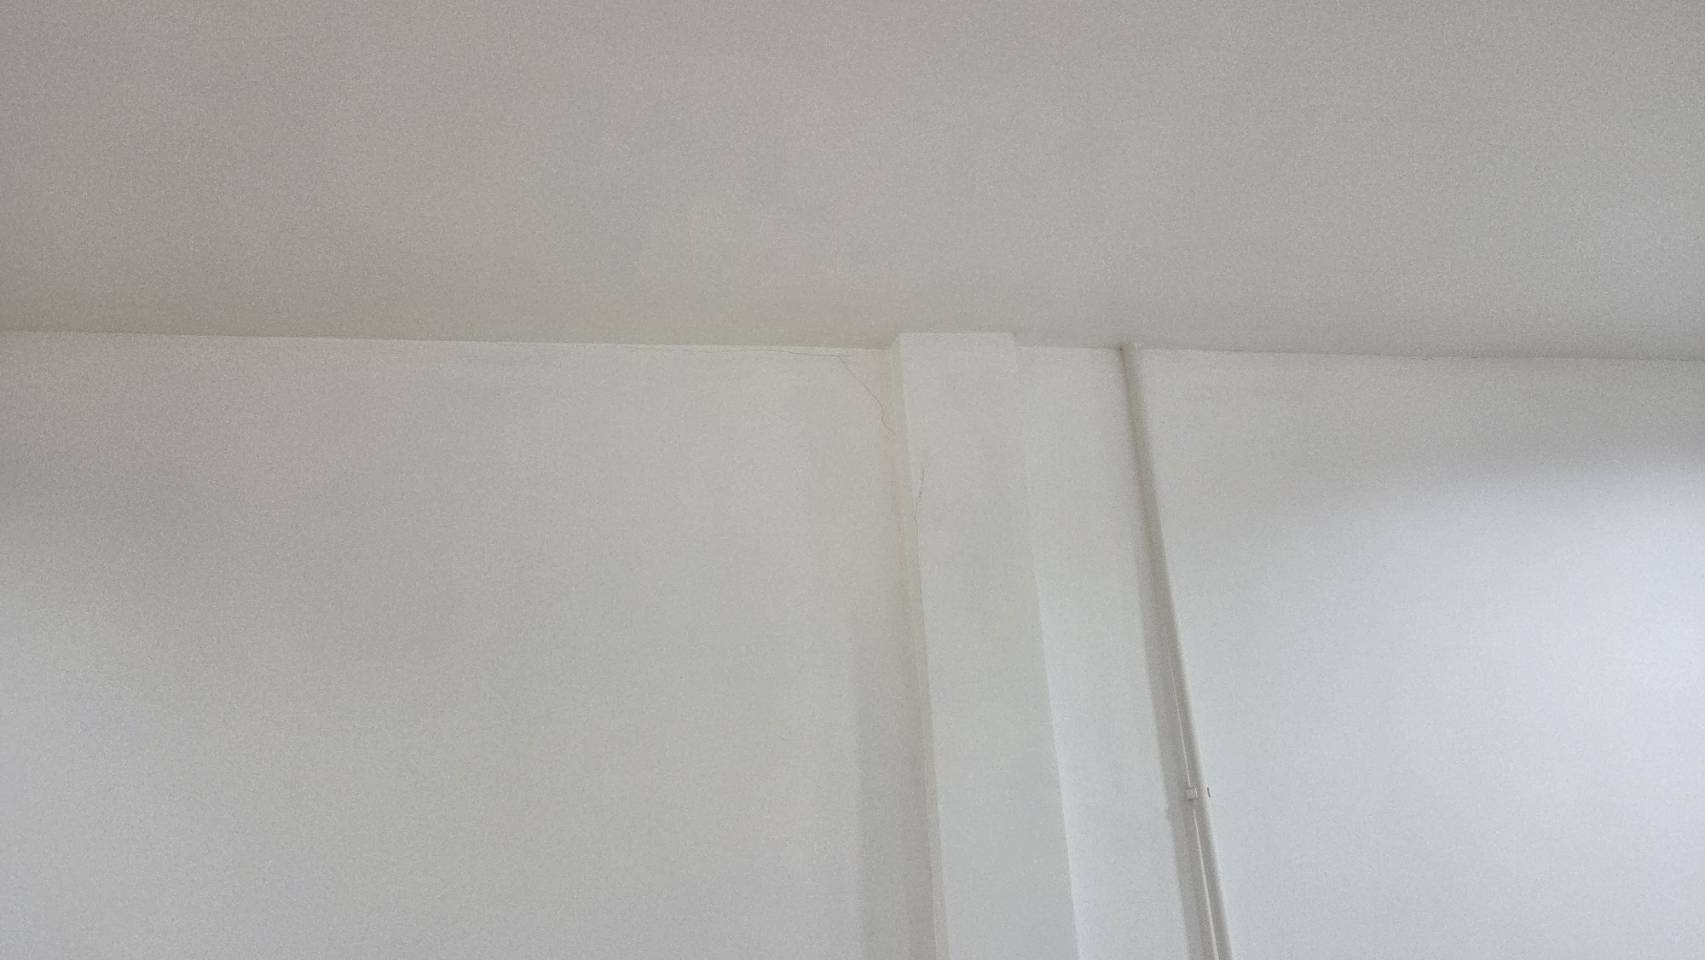Low: (782, 347, 958, 527)
